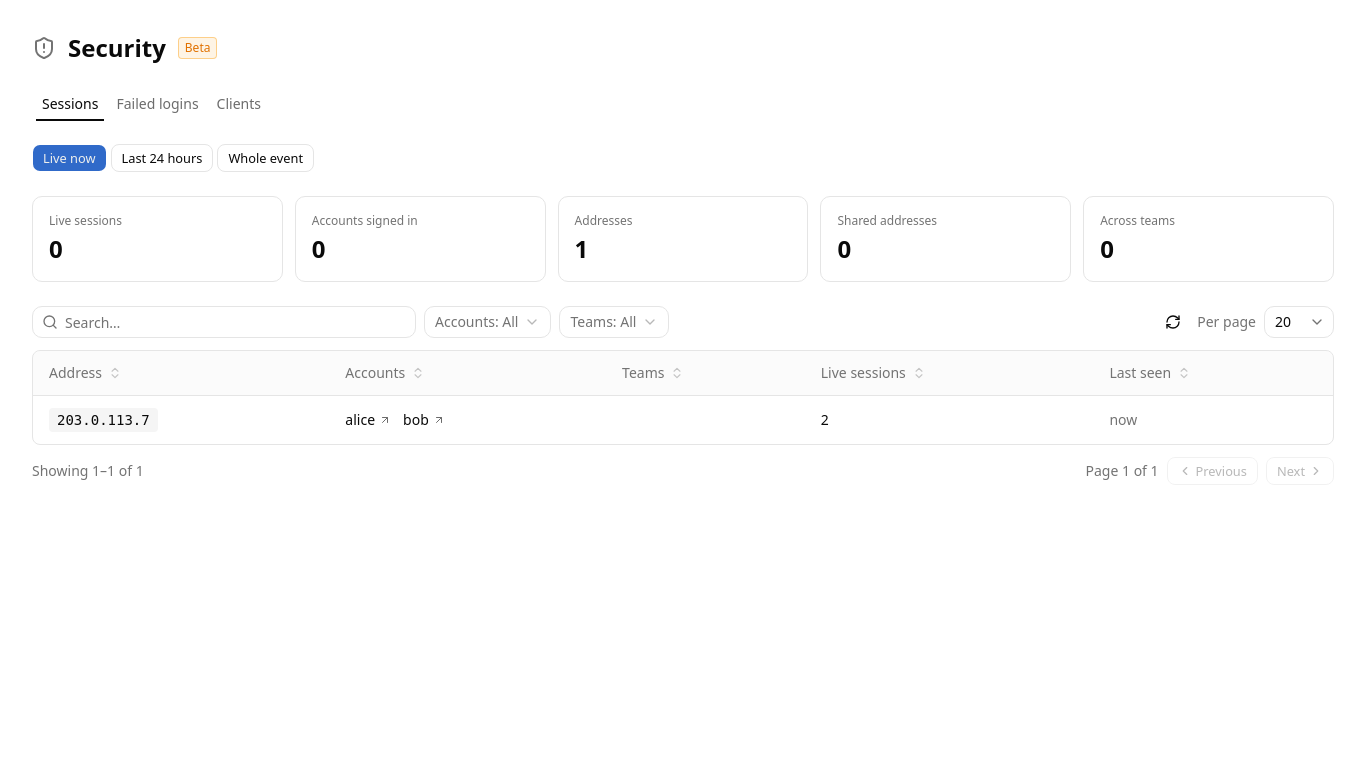
Test: says so when a searched address has nothing live on it
Expected: the text "203.0.113.7" is shown, left=49, top=408, right=158, bottom=432
Type "10.0.0.1" into the field with placeholder "Search…".
click(224, 322); type("10.0.0.1")  # box left=32, top=306, right=416, bottom=338
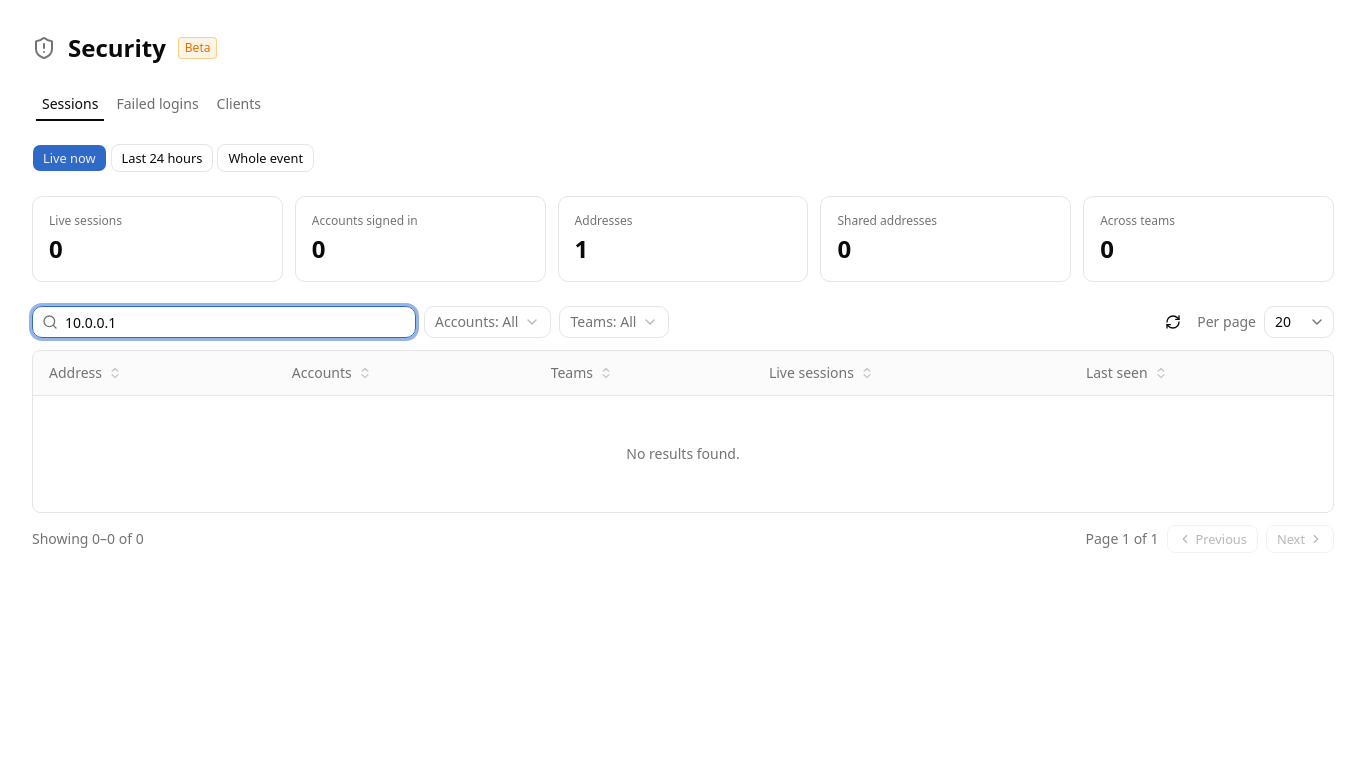
Result: the text "No results found." is shown at left=33, top=396, right=1333, bottom=512
